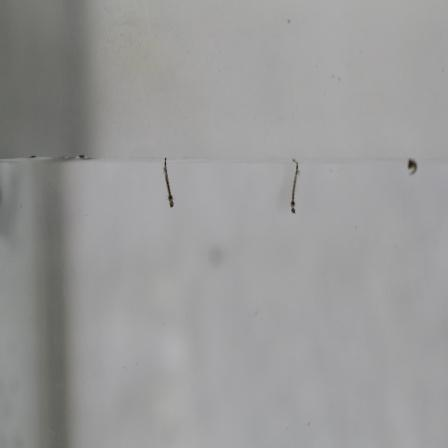Jentik-Nyamuk: (158, 156, 177, 210), (287, 158, 302, 218), (402, 155, 420, 178)
